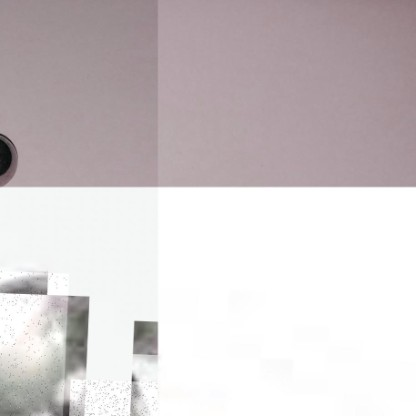ironball: (0, 267, 71, 415)
